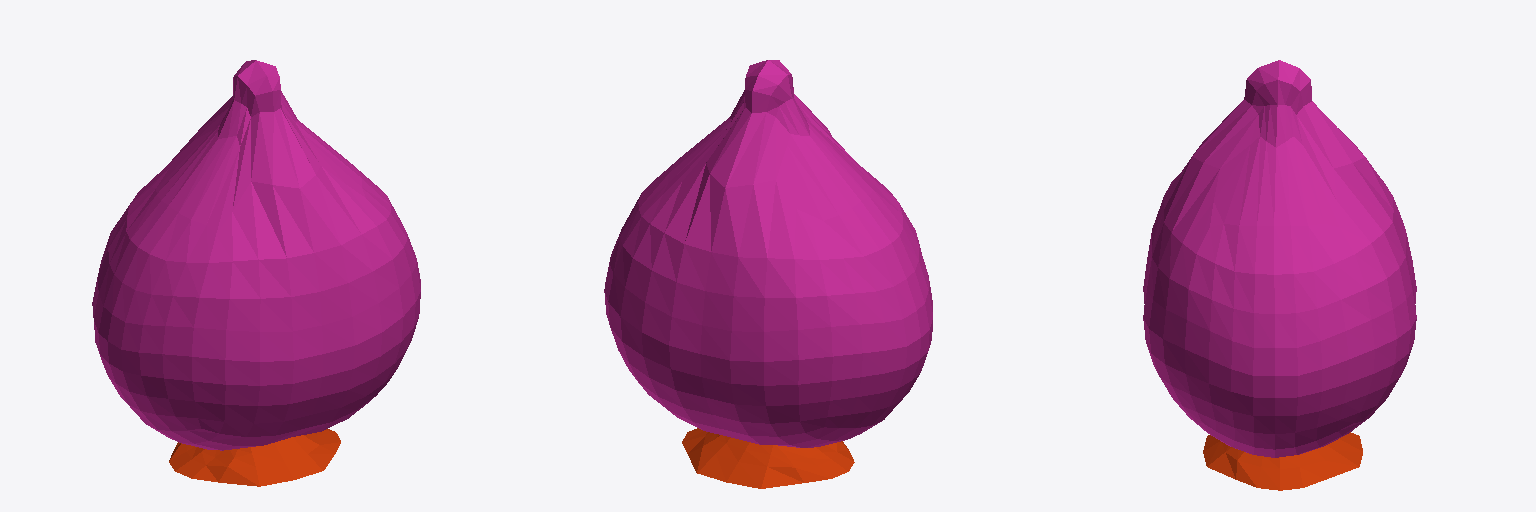
File: bawang.obj
3 views of the same model, side by side, from view 1: azimuth 30°, elevation 25°; view 2: azimuth 150°, elevation 25°; view 3: azimuth 270°, elevation 25° (orthographic).
Parts seen in each view (by area): view 1: Cube; view 2: Cube; view 3: Cube.
Part boxes in pixels (left/top/right/bottom): Cube: left=92, top=60, right=420, bottom=486; Cube: left=604, top=60, right=932, bottom=488; Cube: left=1143, top=60, right=1416, bottom=490.
Size of the model in its own units: 0.2018 by 0.2505 by 0.1583.